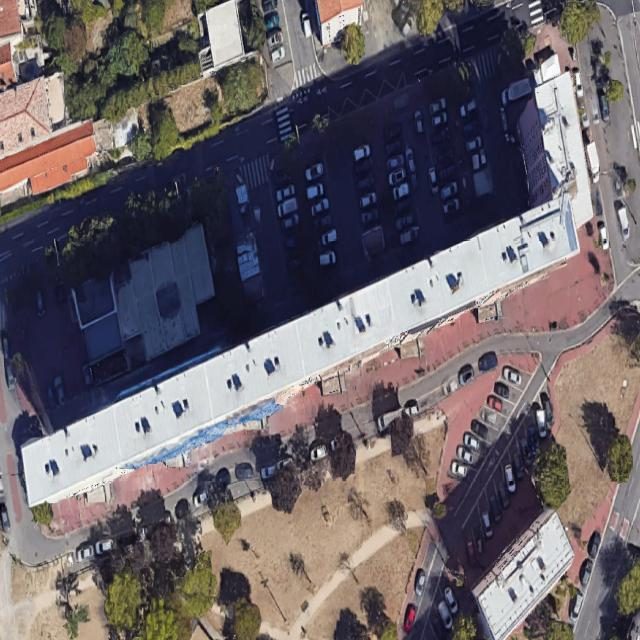immeuble: (0, 70, 640, 536), (452, 502, 592, 640), (315, 0, 361, 47)
maison: (0, 78, 54, 158)
